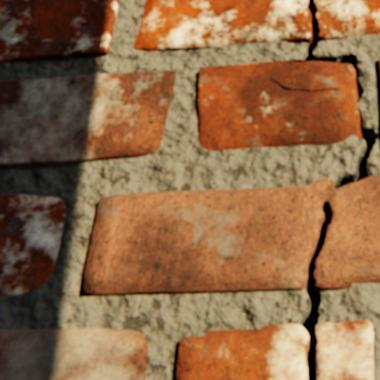brick: (0, 70, 176, 166), (198, 60, 355, 150), (0, 327, 148, 379), (0, 0, 120, 62), (0, 194, 66, 293)
broken_brick: (83, 178, 332, 293), (135, 0, 311, 50), (176, 322, 307, 379), (314, 175, 379, 287), (316, 319, 373, 379), (315, 0, 379, 40)
crack: (294, 0, 378, 379), (270, 78, 337, 91)
